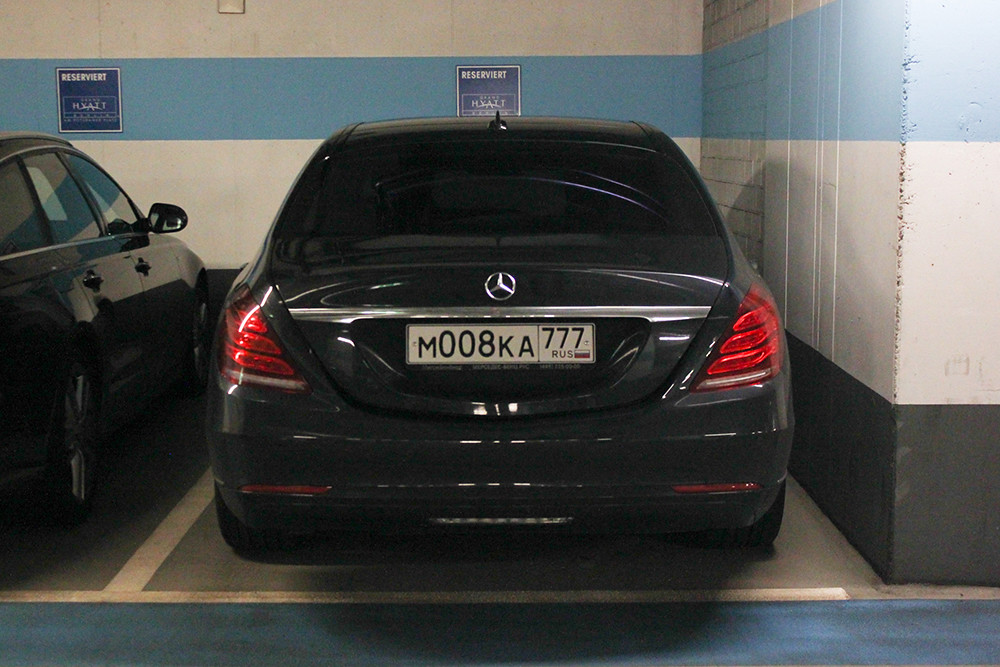car_rear: (211, 270, 770, 531)
plate: (409, 324, 594, 363)
